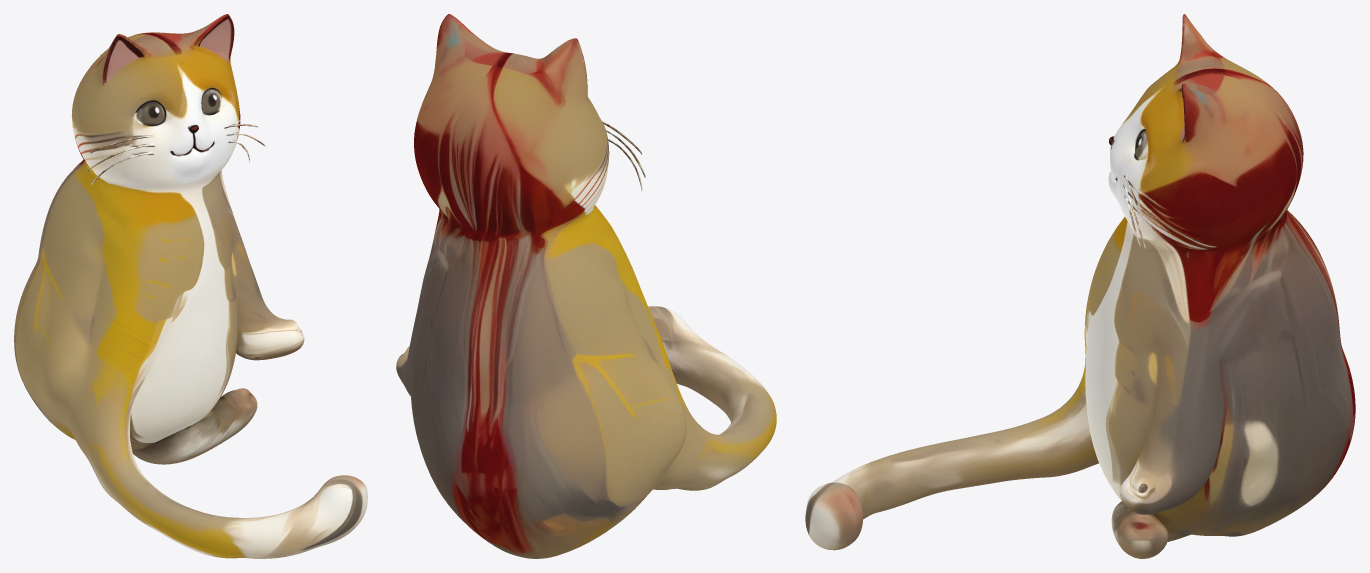
3 renders of one model, left to right at view 1: azimuth 30°, elevation 25°; view 2: azimuth 150°, elevation 25°; view 3: azimuth 270°, elevation 25°, orthographic. The views are drawn at different scales.
Visible parts, largest first — view 1: model; view 2: model; view 3: model.
Boxes of the visible parts, bbox=[...] form: model: bbox=[14, 14, 367, 558]; model: bbox=[396, 14, 776, 558]; model: bbox=[805, 14, 1355, 558].
Size of the model in its own units: 1.08 by 1.79 by 1.74.
Materials: 1 (1 with a texture image).
